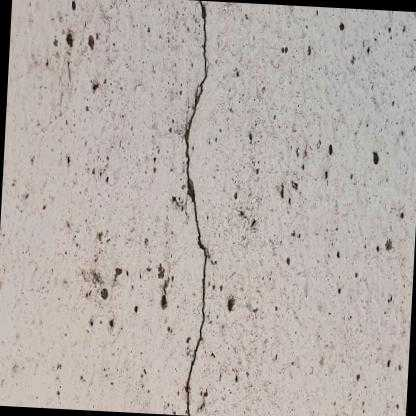crack: (181, 0, 207, 415)
